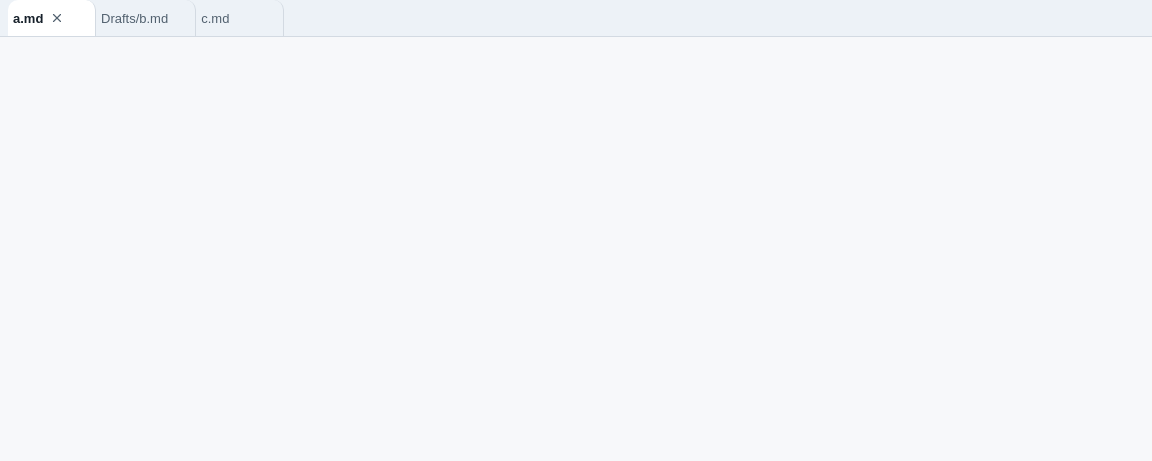
Test: DocumentTabBar context menu (#354) › backdrop click closes the menu
Right-click the tab "a.md" at (52, 18), box top-left (8, 0), bottom-right (96, 36)
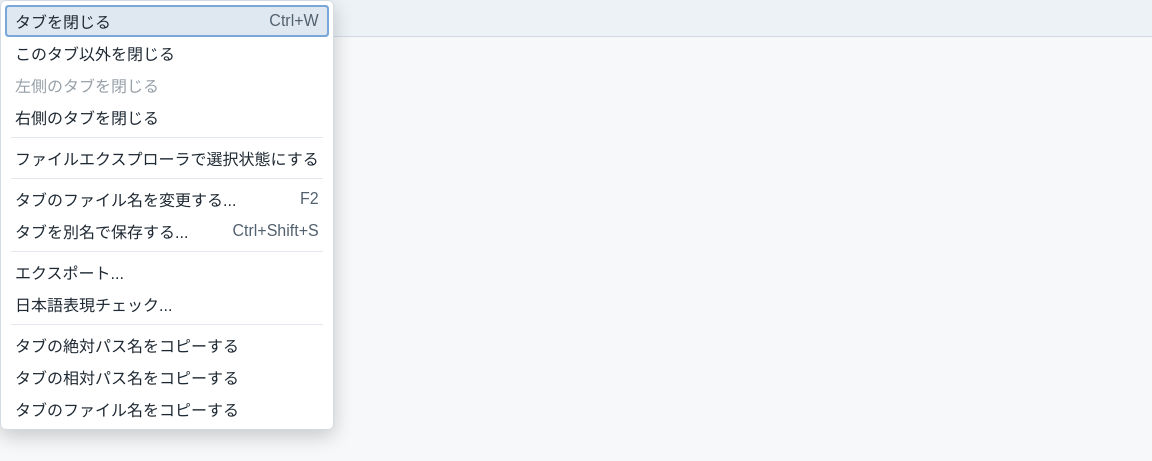
Click the element with class "documentTabContextMenuBackdrop" at (167, 215), box top-left (0, 0), bottom-right (334, 430)
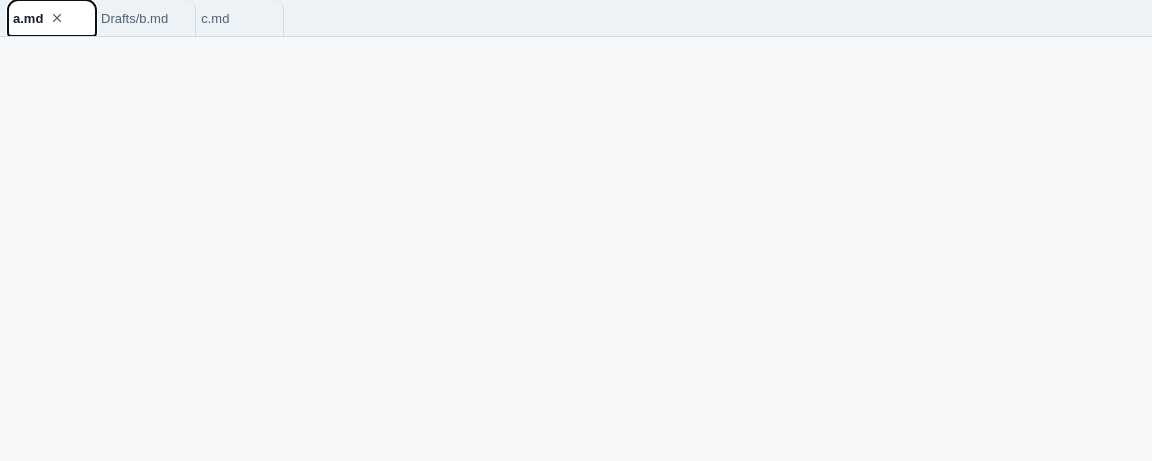
expect the menu is gone: met
